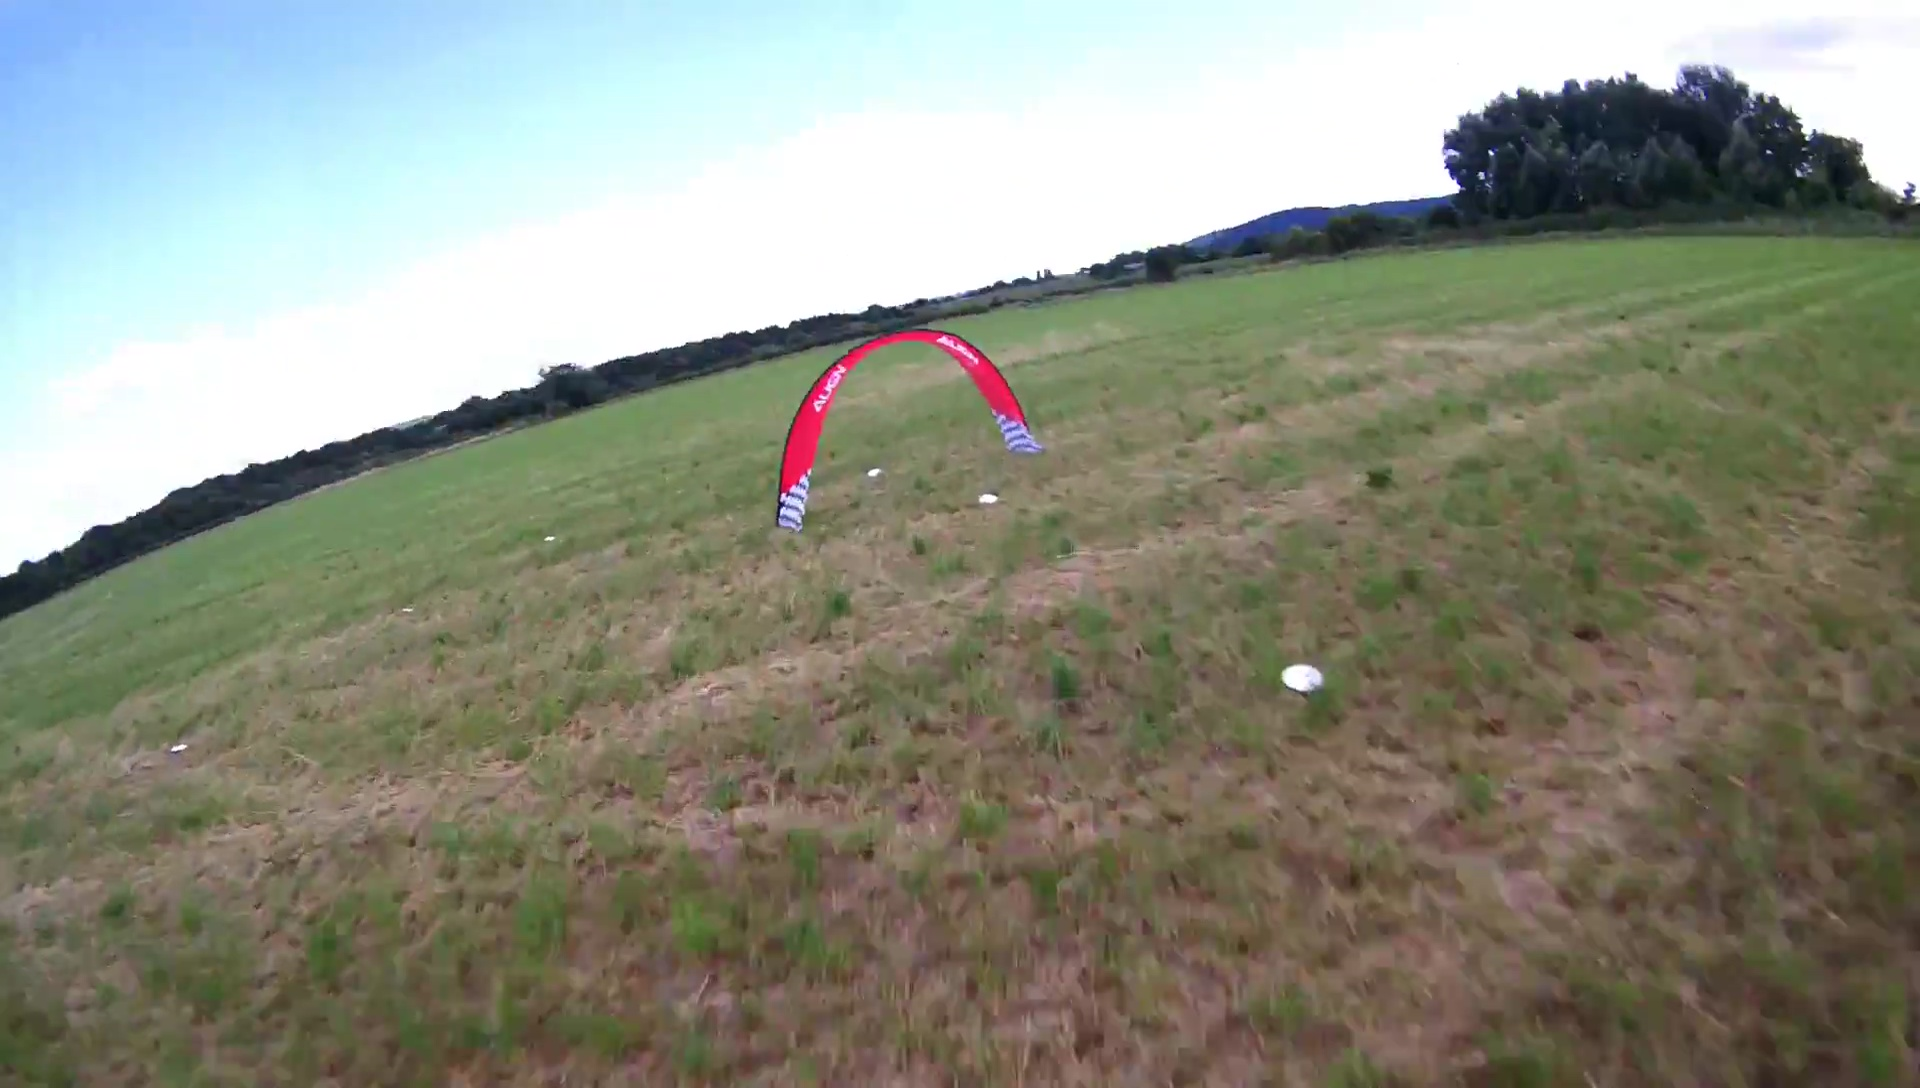gate: (774, 326, 1043, 535)
